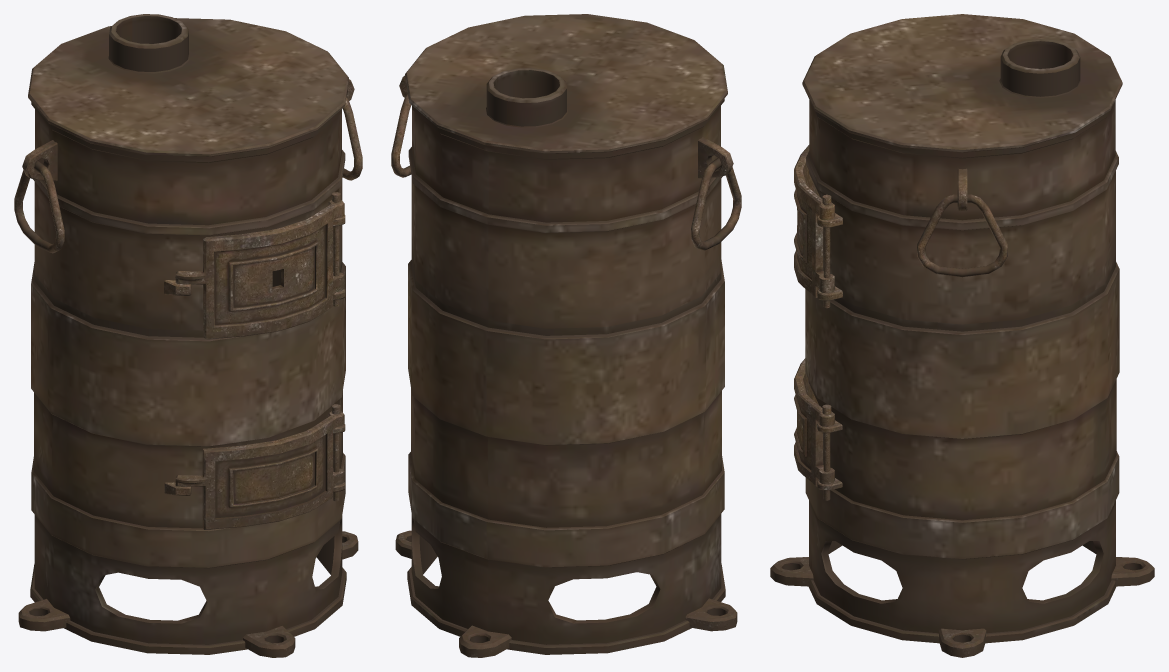
The model's file is s_estufa.glb.
The picture shows the model from 3 angles, left to right: view 1: azimuth 30°, elevation 25°; view 2: azimuth 150°, elevation 25°; view 3: azimuth 270°, elevation 25°; orthographic projection.
Parts seen in each view (by area): view 1: burner.004_Material.004_0; view 2: burner.004_Material.004_0; view 3: burner.004_Material.004_0.
Part boxes in pixels (x1=…): burner.004_Material.004_0: x1=14, y1=14, x2=362, y2=657; burner.004_Material.004_0: x1=391, y1=14, x2=741, y2=657; burner.004_Material.004_0: x1=770, y1=14, x2=1154, y2=657.
Size of the model in its own units: 0.6658 by 1 by 0.6658.
Materials: 3 (3 with a texture image).
